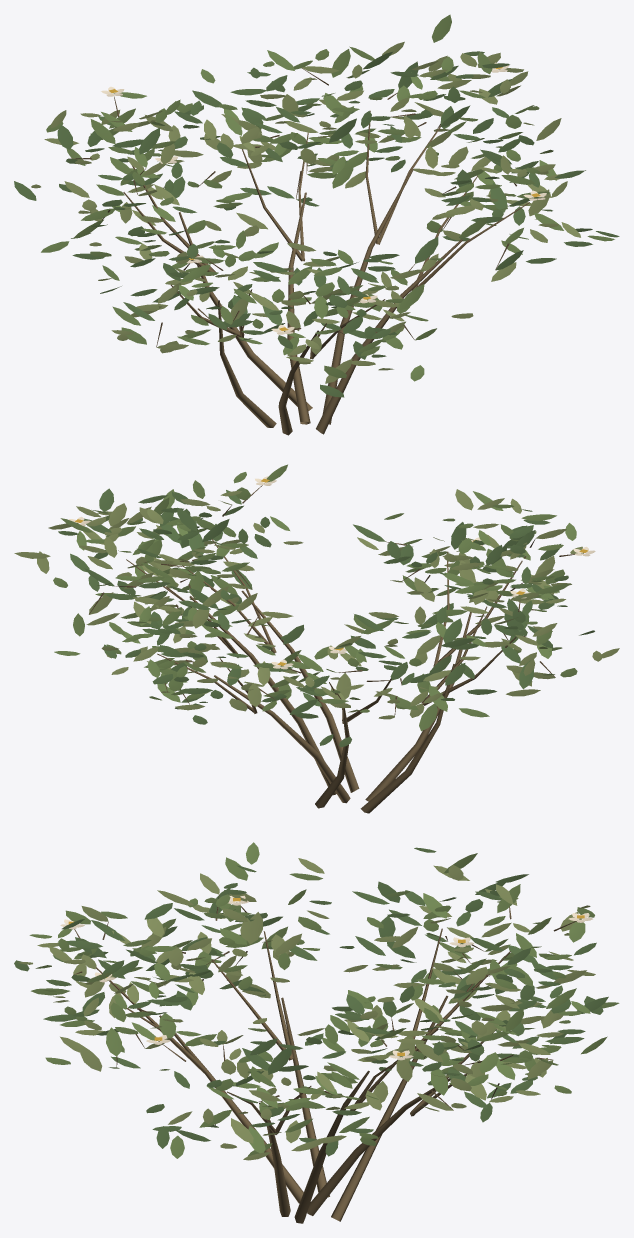
The model's file is Ciste_1_High.fbx.
3 renders of one model, top to bottom at view 1: azimuth 30°, elevation 25°; view 2: azimuth 150°, elevation 25°; view 3: azimuth 270°, elevation 25°, orthographic. The views are drawn at different scales.
Visible parts, largest first — view 1: Ciste_1_High; view 2: Ciste_1_High; view 3: Ciste_1_High.
Part boxes in pixels (x1=…): Ciste_1_High: x1=14, y1=14, x2=619, y2=435; Ciste_1_High: x1=14, y1=464, x2=619, y2=813; Ciste_1_High: x1=14, y1=842, x2=619, y2=1223.
Size of the model in its own units: 191 by 112 by 190.
